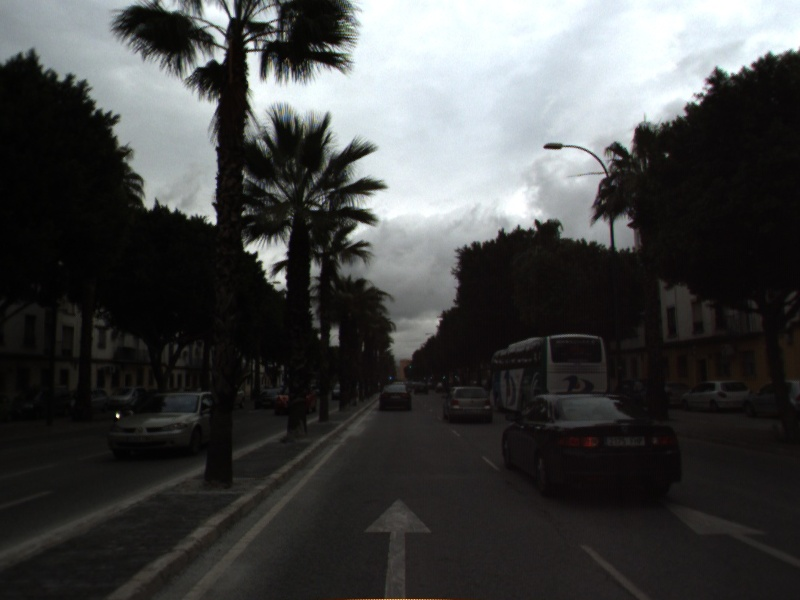STRAIGHT: (659, 496, 800, 567), (361, 495, 435, 600)
